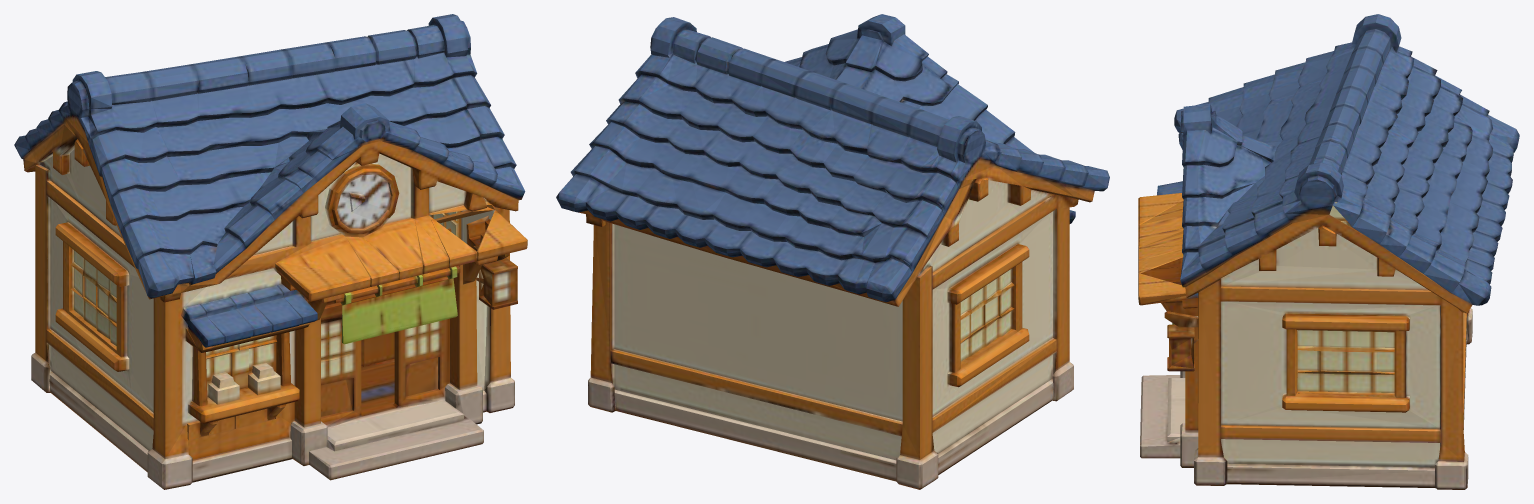
Rendered from station-BqbhM0a-.glb.
The picture shows the model from 3 angles, left to right: view 1: azimuth 30°, elevation 25°; view 2: azimuth 150°, elevation 25°; view 3: azimuth 270°, elevation 25°; orthographic projection. The views are drawn at different scales.
Visible parts, largest first — view 1: tripo_node_269c315d-03e2-4626-97f1-b74fa6a1284d; view 2: tripo_node_269c315d-03e2-4626-97f1-b74fa6a1284d; view 3: tripo_node_269c315d-03e2-4626-97f1-b74fa6a1284d.
Part boxes in pixels (x1=…): tripo_node_269c315d-03e2-4626-97f1-b74fa6a1284d: x1=14, y1=14, x2=527, y2=489; tripo_node_269c315d-03e2-4626-97f1-b74fa6a1284d: x1=556, y1=14, x2=1109, y2=489; tripo_node_269c315d-03e2-4626-97f1-b74fa6a1284d: x1=1138, y1=14, x2=1519, y2=489.
Size of the model in its own units: 0.9788 by 0.7873 by 0.8524.
1 material, 1 textured.
